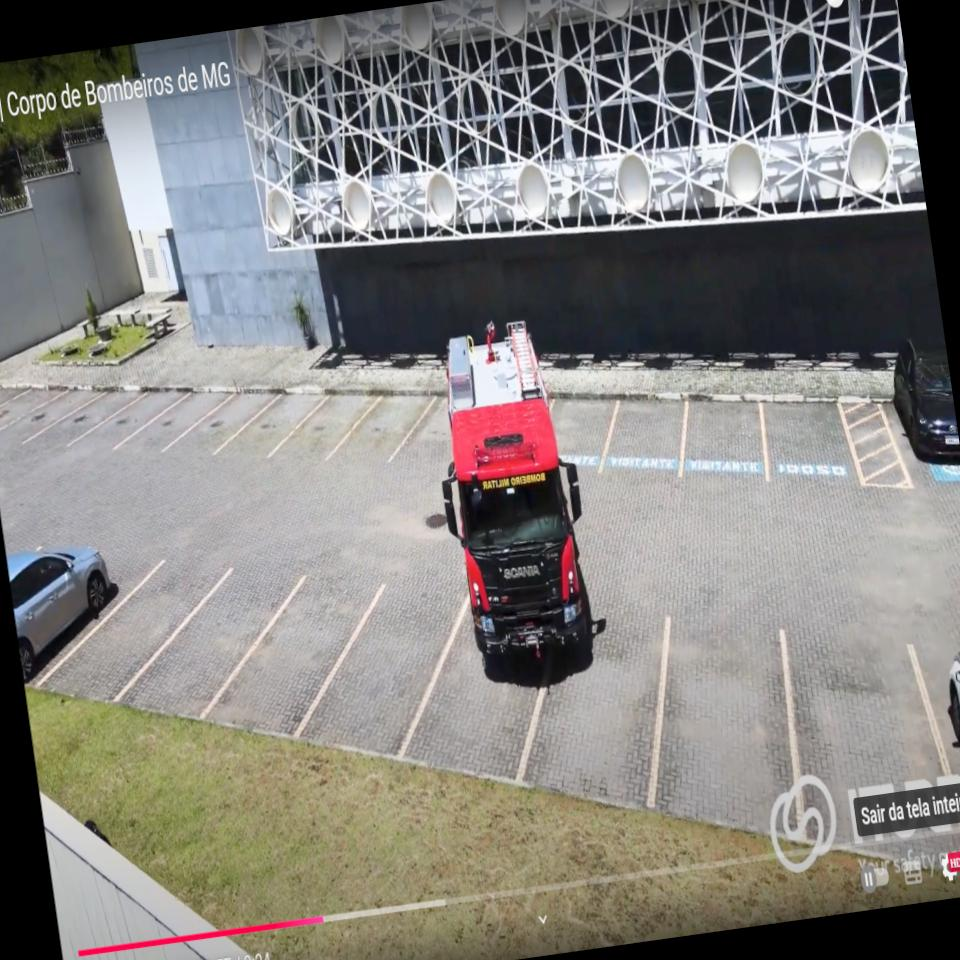viatura: (417, 306, 606, 688)
